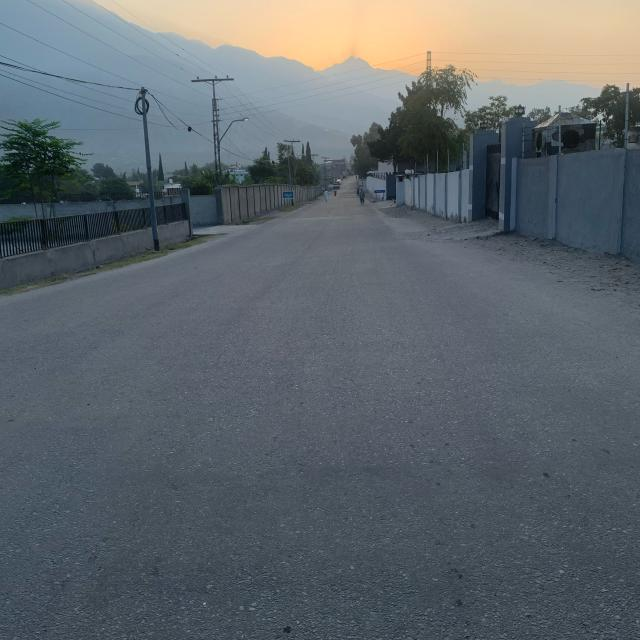straight: (317, 192, 392, 471)
